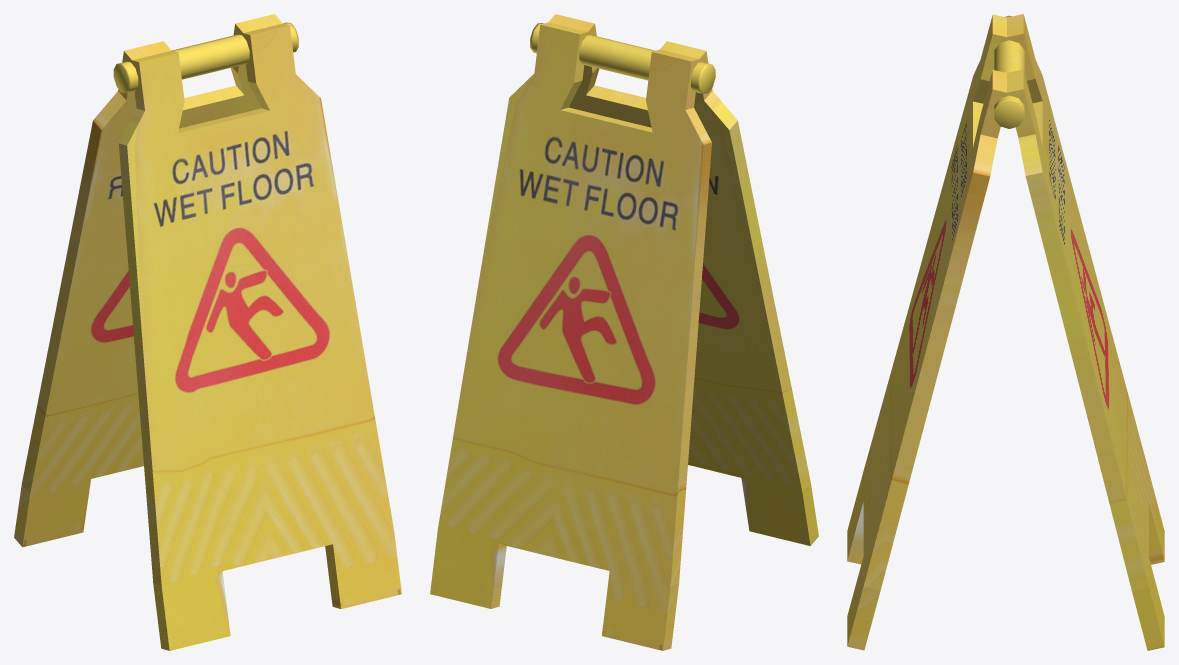
Rendered from wet_floor.fbx.
3 renders of one model, left to right at view 1: azimuth 30°, elevation 25°; view 2: azimuth 150°, elevation 25°; view 3: azimuth 270°, elevation 25°, orthographic.
Parts seen in each view (by area): view 1: front1, back, top_cylinder; view 2: back, front1, top_cylinder; view 3: front1, back, top_cylinder.
Boxes of the visible parts, x1,y1,x2,y2 form: front1: (118, 23, 401, 650); back: (14, 14, 282, 547); top_cylinder: (113, 22, 298, 93); back: (430, 22, 711, 650); front1: (548, 14, 818, 545); top_cylinder: (530, 23, 715, 93); front1: (847, 14, 1007, 650); back: (1006, 14, 1164, 650); top_cylinder: (994, 15, 1024, 128).
Bounding box in the file's own units: 1.2 × 2.62 × 1.39.
Materials: 1 (1 with a texture image).
